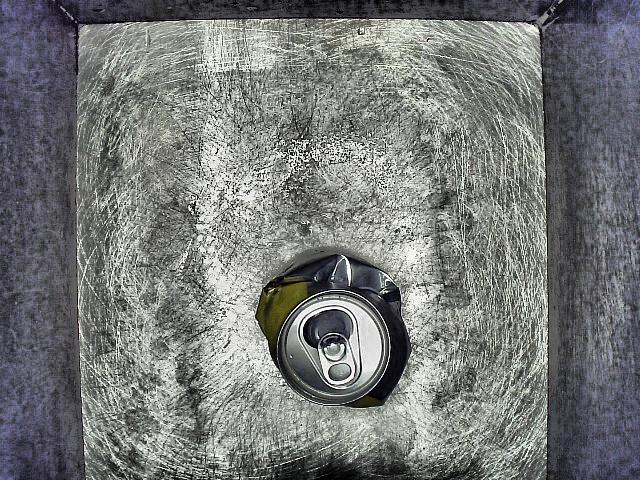Bottles: (217, 200, 426, 429)
